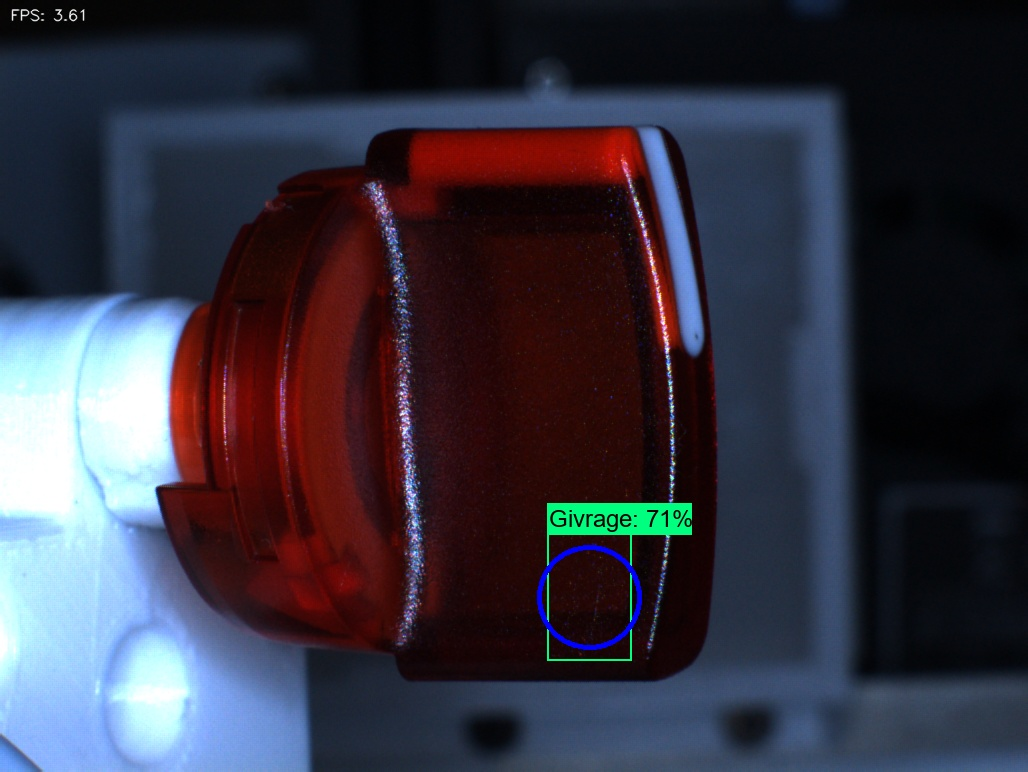PointNoir: (665, 305, 721, 364)
